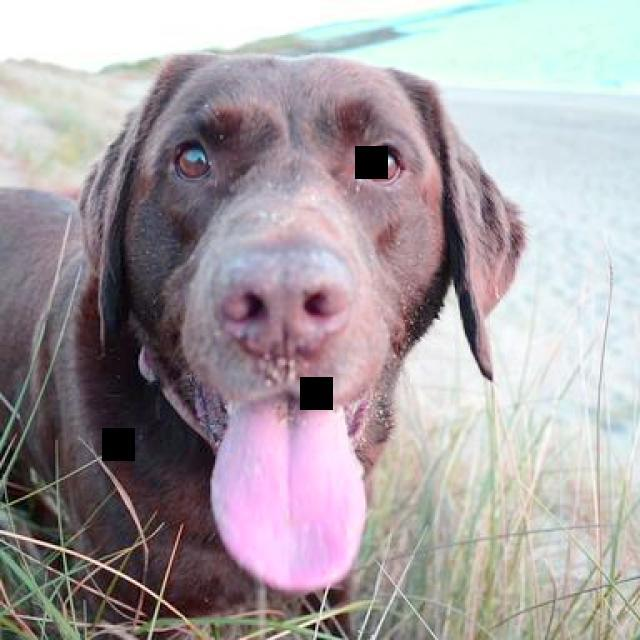adult_dog: (1, 48, 522, 621)
